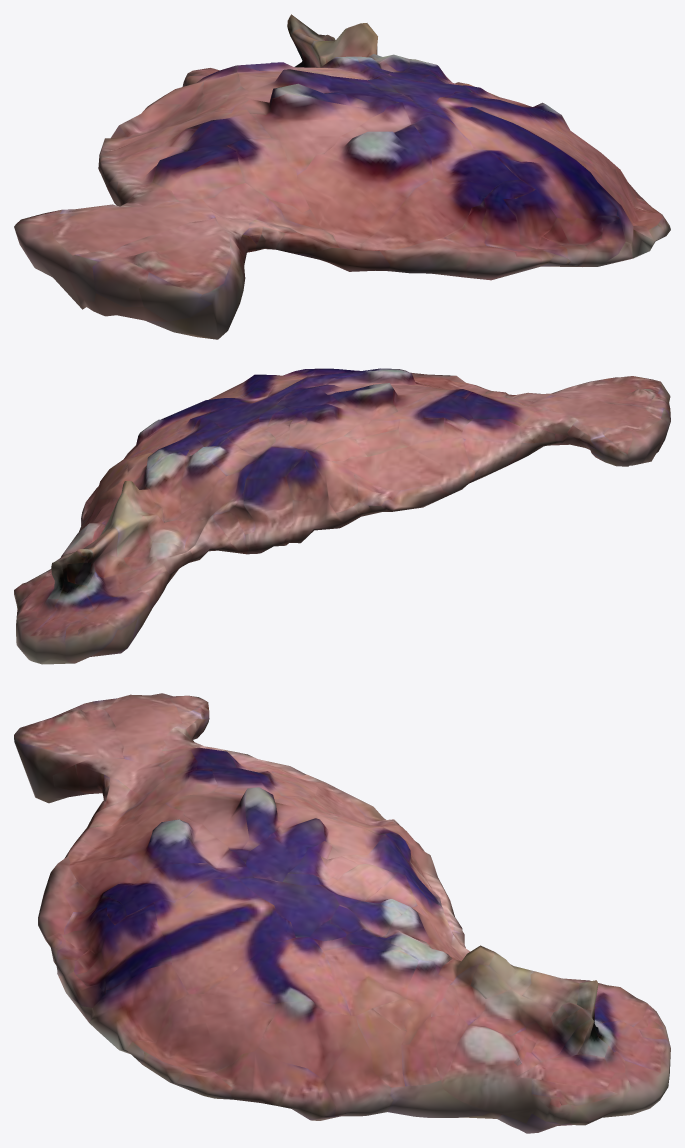
Rendered from hall.glb.
3 views of the same model, one above another, from view 1: azimuth 30°, elevation 25°; view 2: azimuth 150°, elevation 25°; view 3: azimuth 270°, elevation 25° (orthographic). The views are drawn at different scales.
Bounding box in the file's own units: 0.8256 × 0.3252 × 0.84.
1 material, 1 textured.
